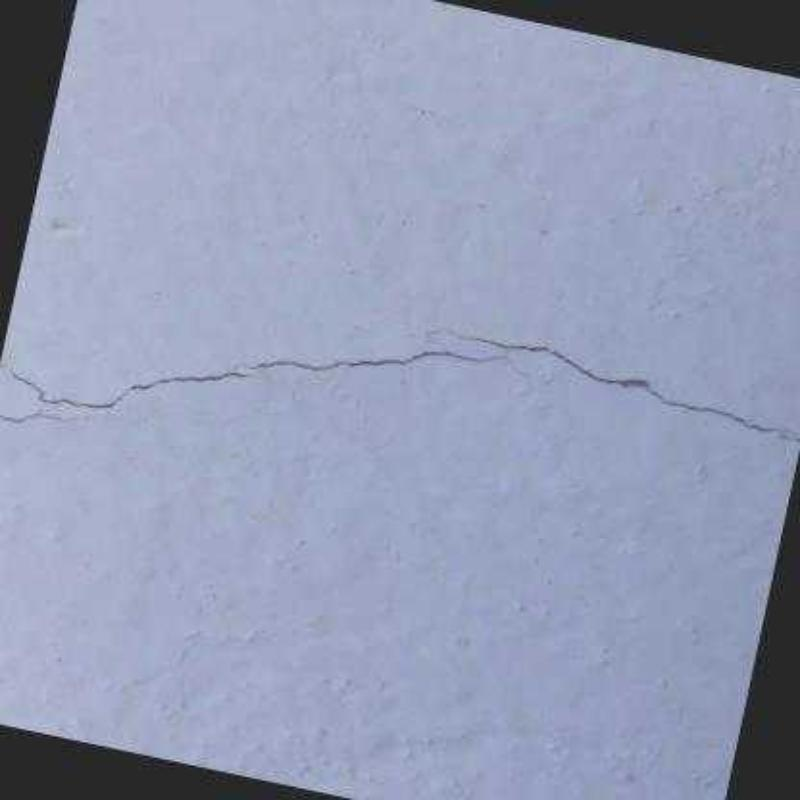crack: (412, 324, 798, 438), (0, 347, 546, 409), (0, 411, 112, 426)
